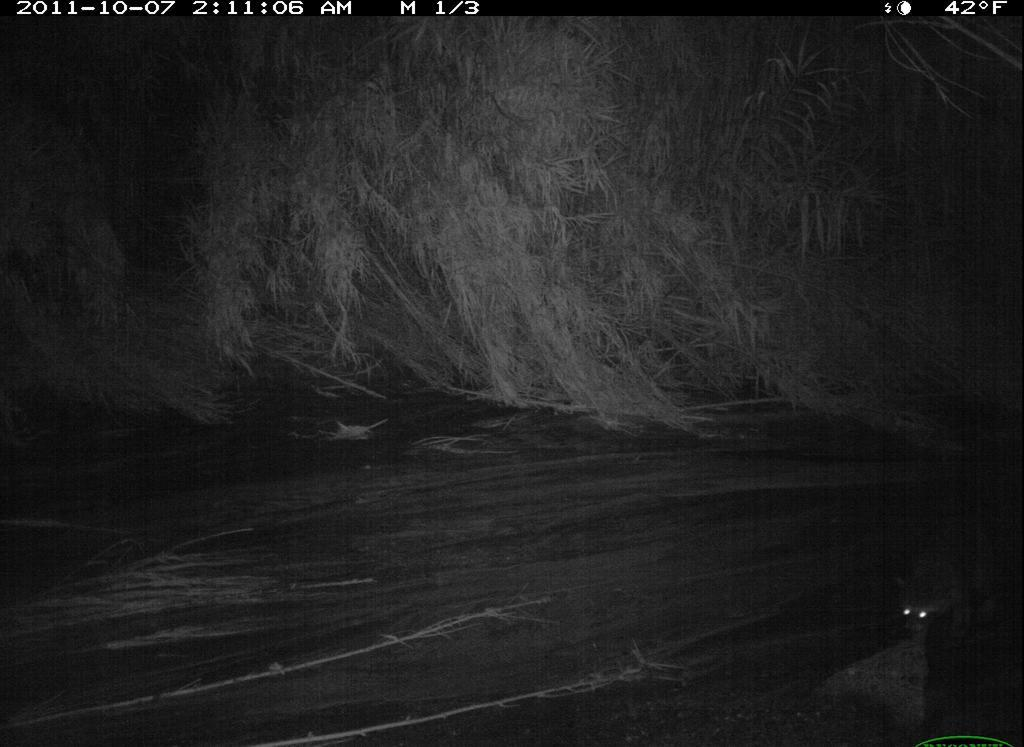raccoon: (857, 515, 1022, 641)
